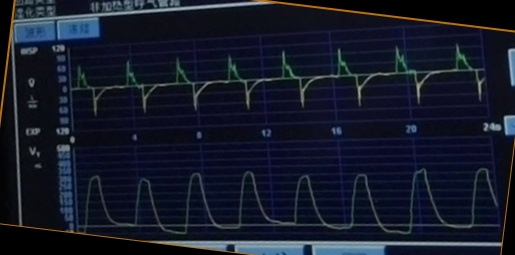Accumulation Flow: (72, 43, 487, 119)
Volume: (80, 160, 496, 238)
